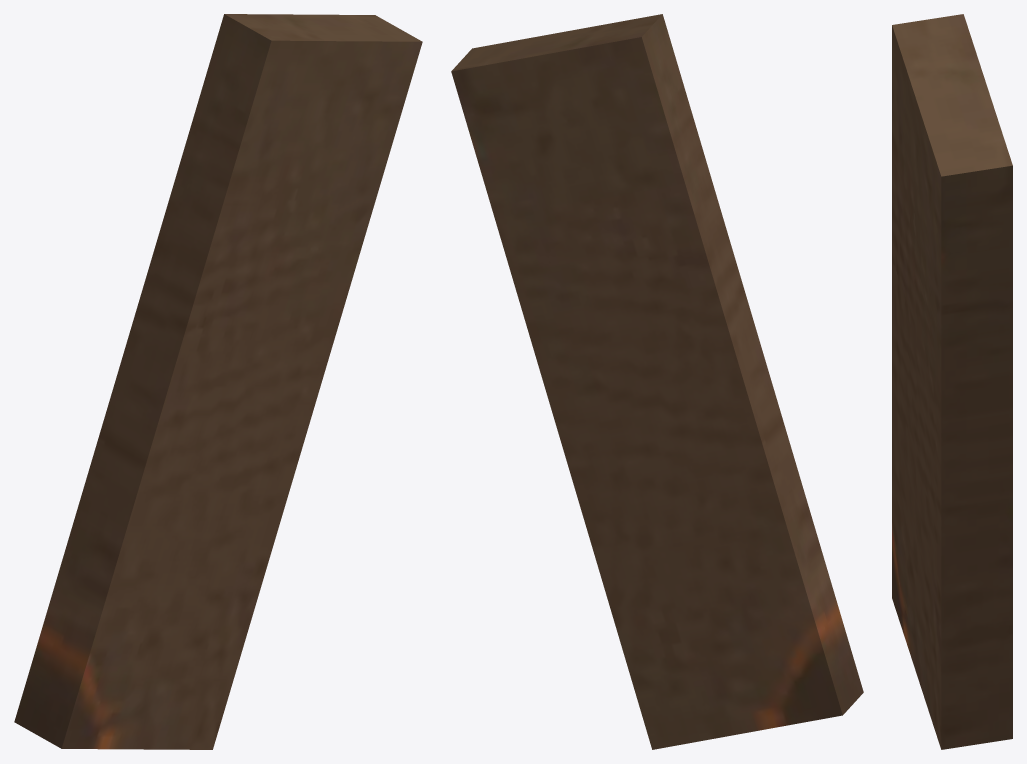
Rendered from fan_center__blade_1.glb.
The picture shows the model from 3 angles, left to right: view 1: azimuth 30°, elevation 25°; view 2: azimuth 150°, elevation 25°; view 3: azimuth 270°, elevation 25°; orthographic projection. The views are drawn at different scales.
Visible parts, largest first — view 1: geometry_0; view 2: geometry_0; view 3: geometry_0.
Part boxes in pixels (<box>): geometry_0: <box>14,14,422,749</box>; geometry_0: <box>451,14,863,749</box>; geometry_0: <box>892,14,1012,749</box>.
Bounding box in the file's own units: 0.0168 × 0.0292 × 0.00428.
Materials: 1 (1 with a texture image).
